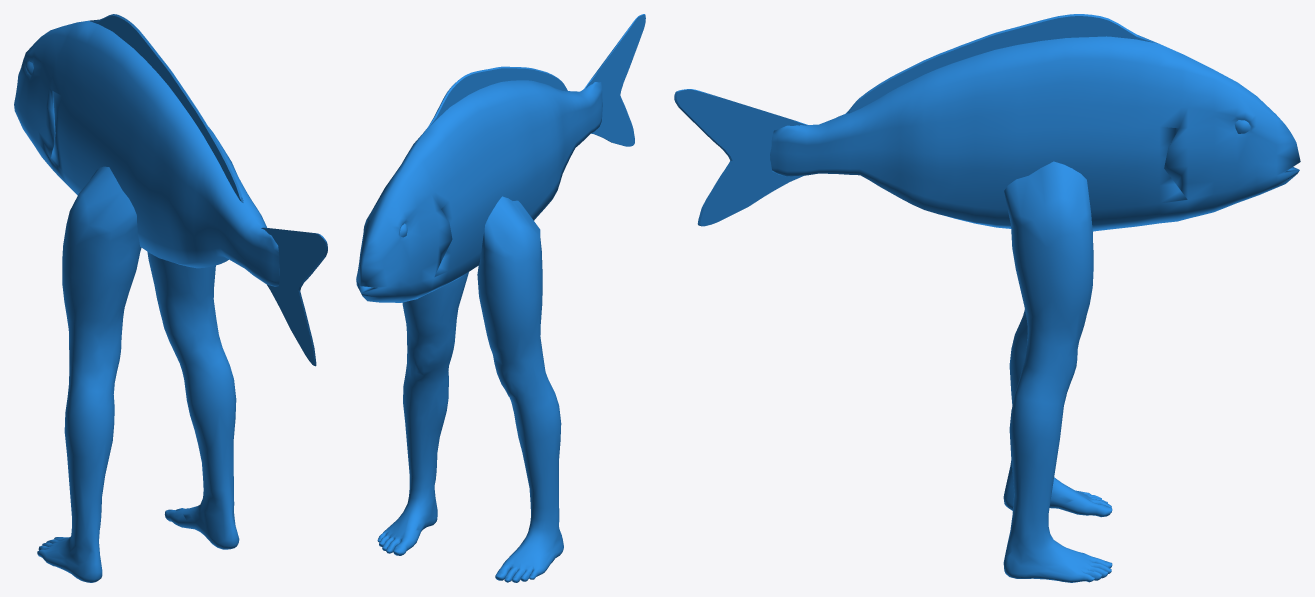
Rendered from Tuna.fbx.
3 renders of one model, left to right at view 1: azimuth 30°, elevation 25°; view 2: azimuth 150°, elevation 25°; view 3: azimuth 270°, elevation 25°, orthographic. The views are drawn at different scales.
Visible parts, largest first — view 1: Icosphere; view 2: Icosphere; view 3: Icosphere.
Part boxes in pixels (<box>): Icosphere: <box>14,14,327,582</box>; Icosphere: <box>356,14,645,582</box>; Icosphere: <box>674,14,1300,582</box>.
Size of the model in its own units: 113 by 326 by 350.
